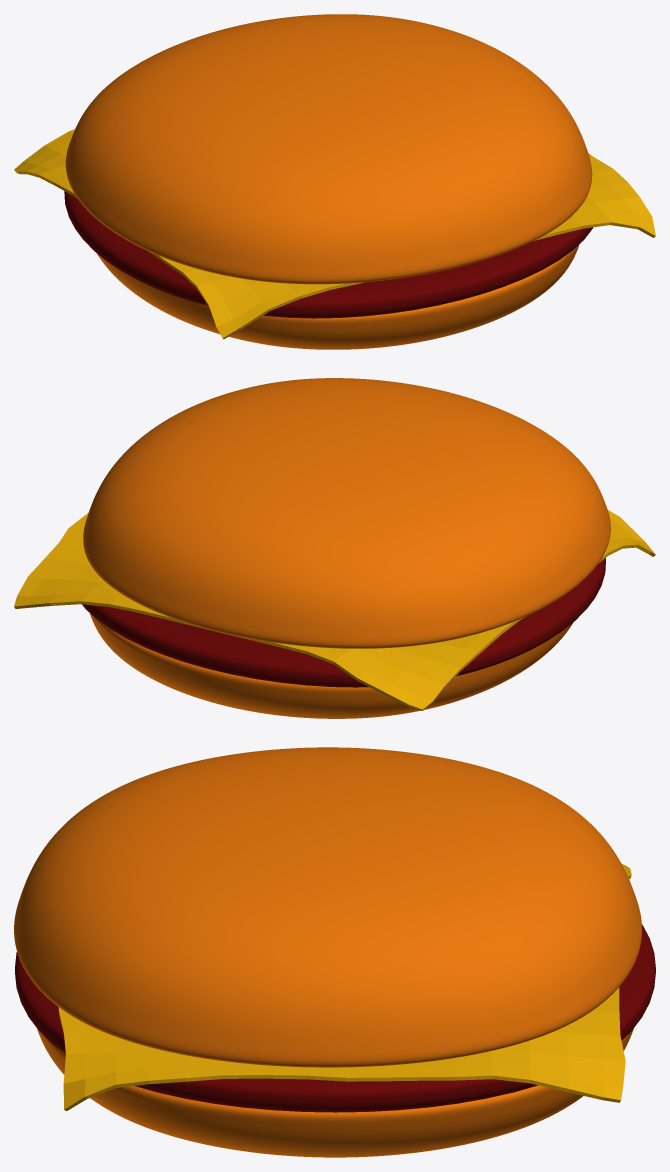
The model's file is burger.glb.
3 renders of one model, top to bottom at view 1: azimuth 30°, elevation 25°; view 2: azimuth 150°, elevation 25°; view 3: azimuth 270°, elevation 25°, orthographic. The views are drawn at different scales.
Parts seen in each view (by area): view 1: Cube.002, Cube.001, Cube, Plane; view 2: Cube.002, Plane, Cube.001, Cube; view 3: Cube.002, Plane, Cube, Cube.001.
Boxes of the visible parts, <box> form: Cube.002: <box>65,14,592,284</box>; Cube.001: <box>64,191,593,318</box>; Cube: <box>97,245,578,349</box>; Plane: <box>14,129,655,339</box>; Cube.002: <box>83,378,610,648</box>; Plane: <box>14,510,655,710</box>; Cube.001: <box>82,558,605,687</box>; Cube: <box>90,613,573,718</box>; Cube.002: <box>14,747,641,1067</box>; Plane: <box>58,864,631,1111</box>; Cube: <box>37,1028,633,1157</box>; Cube.001: <box>15,924,655,1112</box>.
Bounding box in the file's own units: 18.44 × 8.24 × 18.36.
